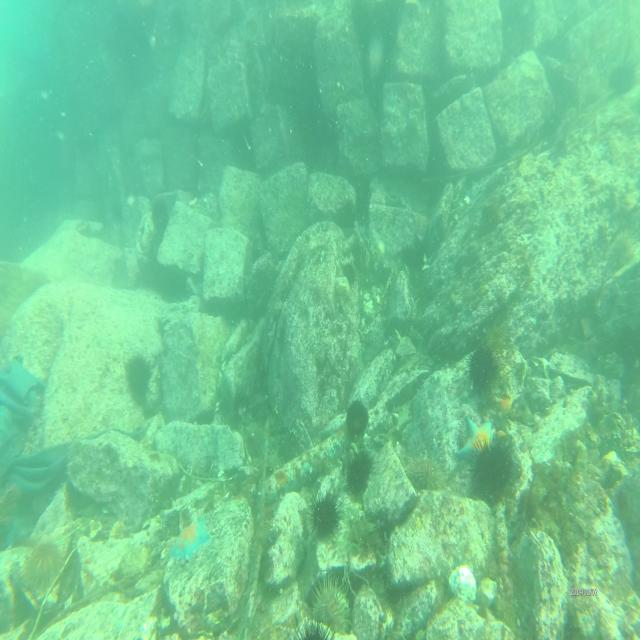echinus: (472, 438, 516, 506), (309, 576, 347, 638), (23, 537, 62, 592), (462, 343, 504, 392), (406, 449, 446, 496), (307, 488, 342, 541), (122, 357, 153, 405), (346, 449, 372, 491), (342, 397, 369, 432)
scallop: (448, 563, 479, 604)
starfish: (455, 411, 497, 464), (168, 518, 211, 564)
